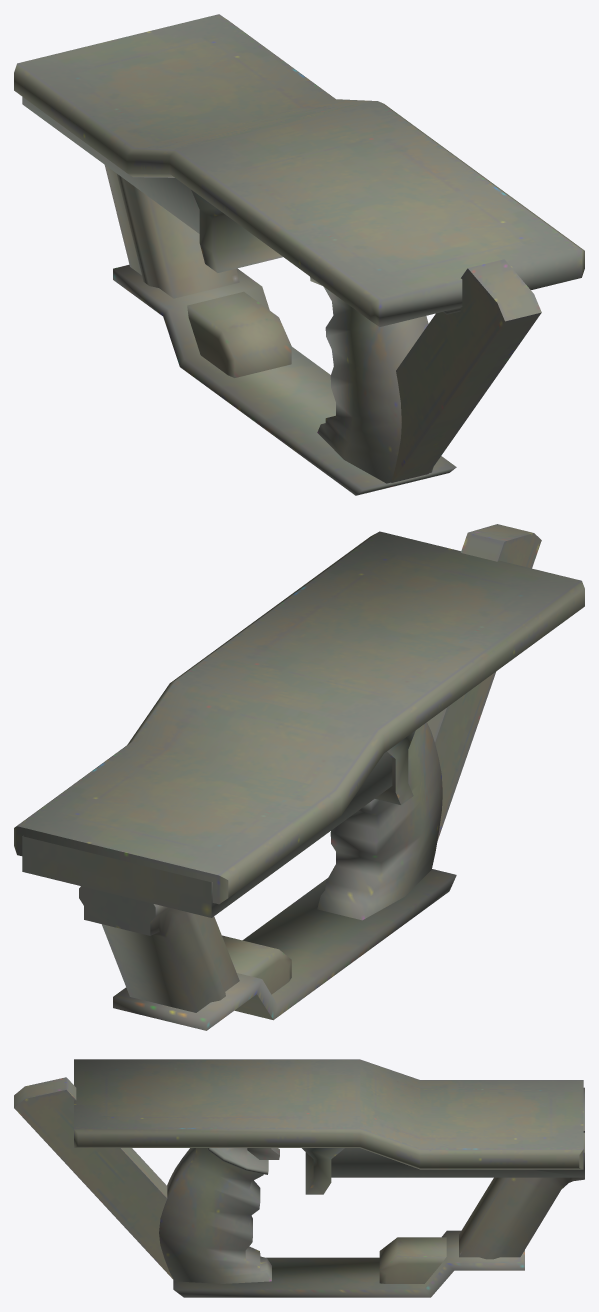
Rendered from grip1.obj.
3 views of the same model, one above another, from view 1: azimuth 30°, elevation 25°; view 2: azimuth 150°, elevation 25°; view 3: azimuth 270°, elevation 25° (orthographic). The views are drawn at different scales.
Visible parts, largest first — view 1: grip1; view 2: grip1; view 3: grip1.
Boxes of the visible parts, box(x1,y1,x2,y2) form: grip1: box(14, 14, 584, 495); grip1: box(14, 524, 584, 1030); grip1: box(14, 1059, 584, 1297).
Size of the model in its own units: 13.69 by 17.19 by 44.94.
